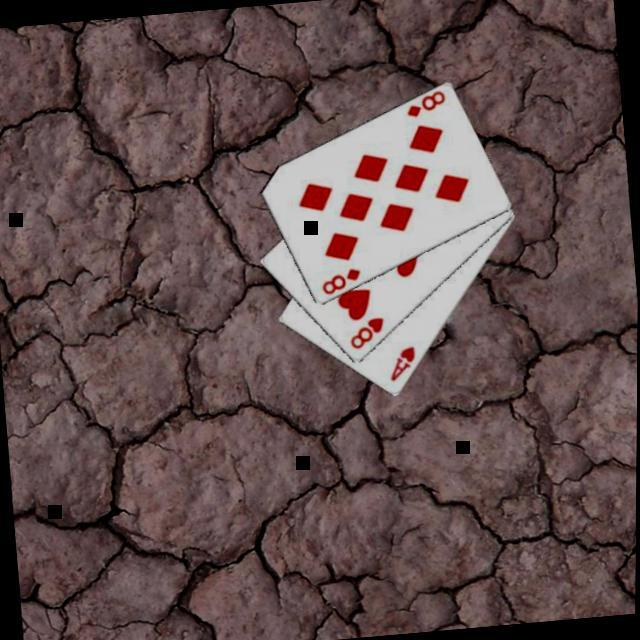8D: (318, 264, 366, 298), (402, 88, 450, 121)
8H: (346, 314, 389, 353)
AH: (385, 342, 421, 386)
